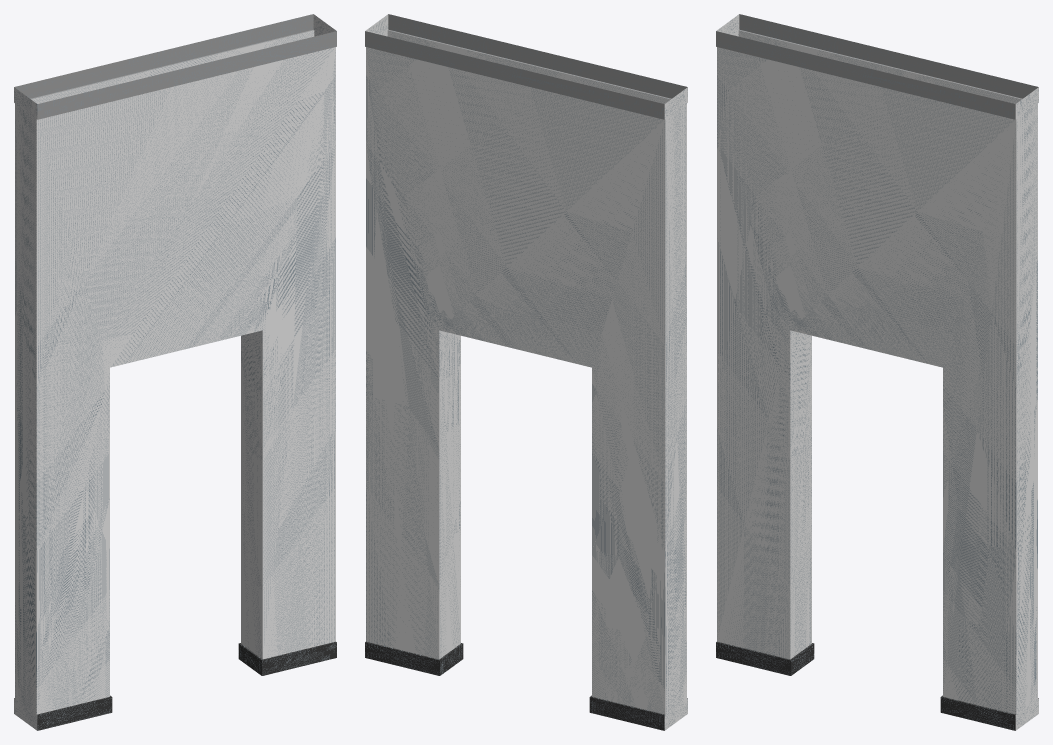
Rendered from BlockWall_ds_plinth_[200x400]_102x220_doorway.dae.
3 views of the same model, side by side, from view 1: azimuth 30°, elevation 25°; view 2: azimuth 150°, elevation 25°; view 3: azimuth 330°, elevation 25° (orthographic).
Visible parts, largest first — view 1: group_0 (×5); view 2: group_0 (×5); view 3: group_0 (×5).
Boxes of the visible parts, x1,y1,x2,y2 form: group_0 (×5): [14, 14, 336, 730]; group_0 (×5): [365, 14, 687, 730]; group_0 (×5): [716, 14, 1038, 730].
Bounding box in the file's own units: 78.74 × 10.63 × 157.
